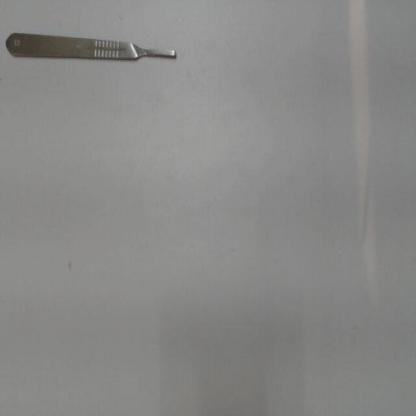No.4 BP Handle: (2, 22, 184, 74)
